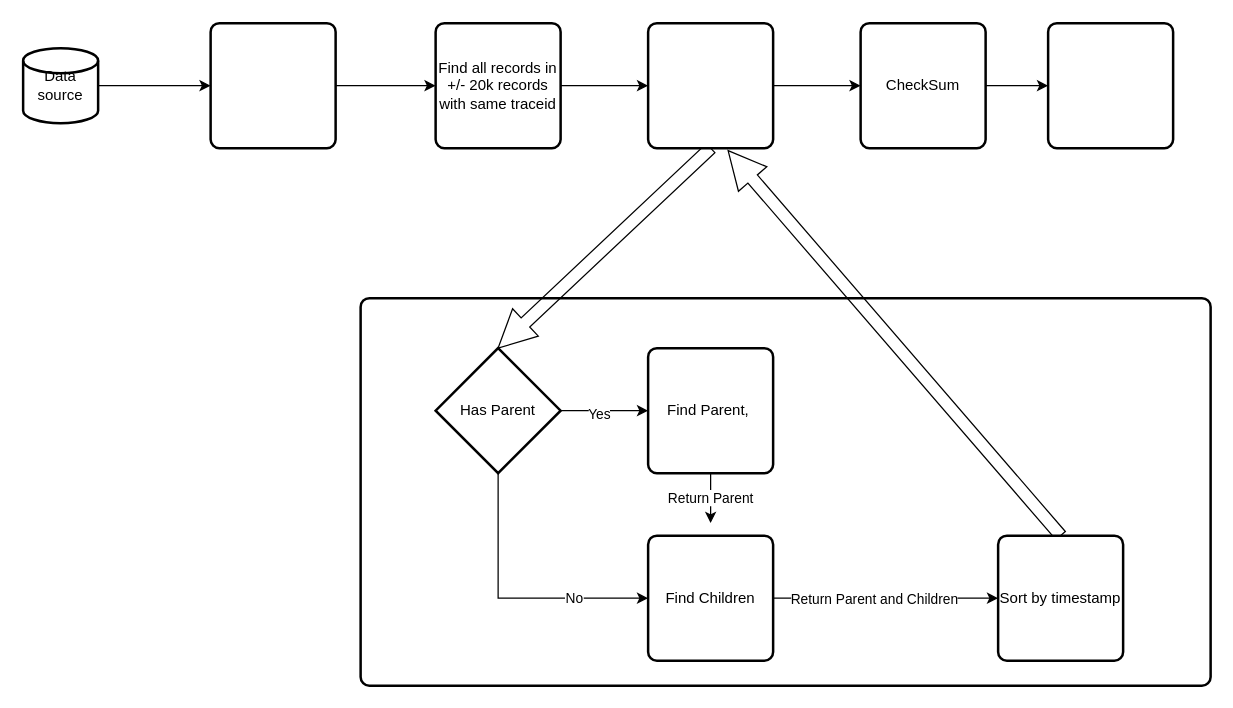
Some shapes in this 1233 by 708 pixel diagram are drawn without their labels. Each missing label, with the box of its shape:
Findout error records: (209, 21, 336, 149)
Return result: (1046, 21, 1174, 149)
Sorting: (646, 21, 774, 149)
